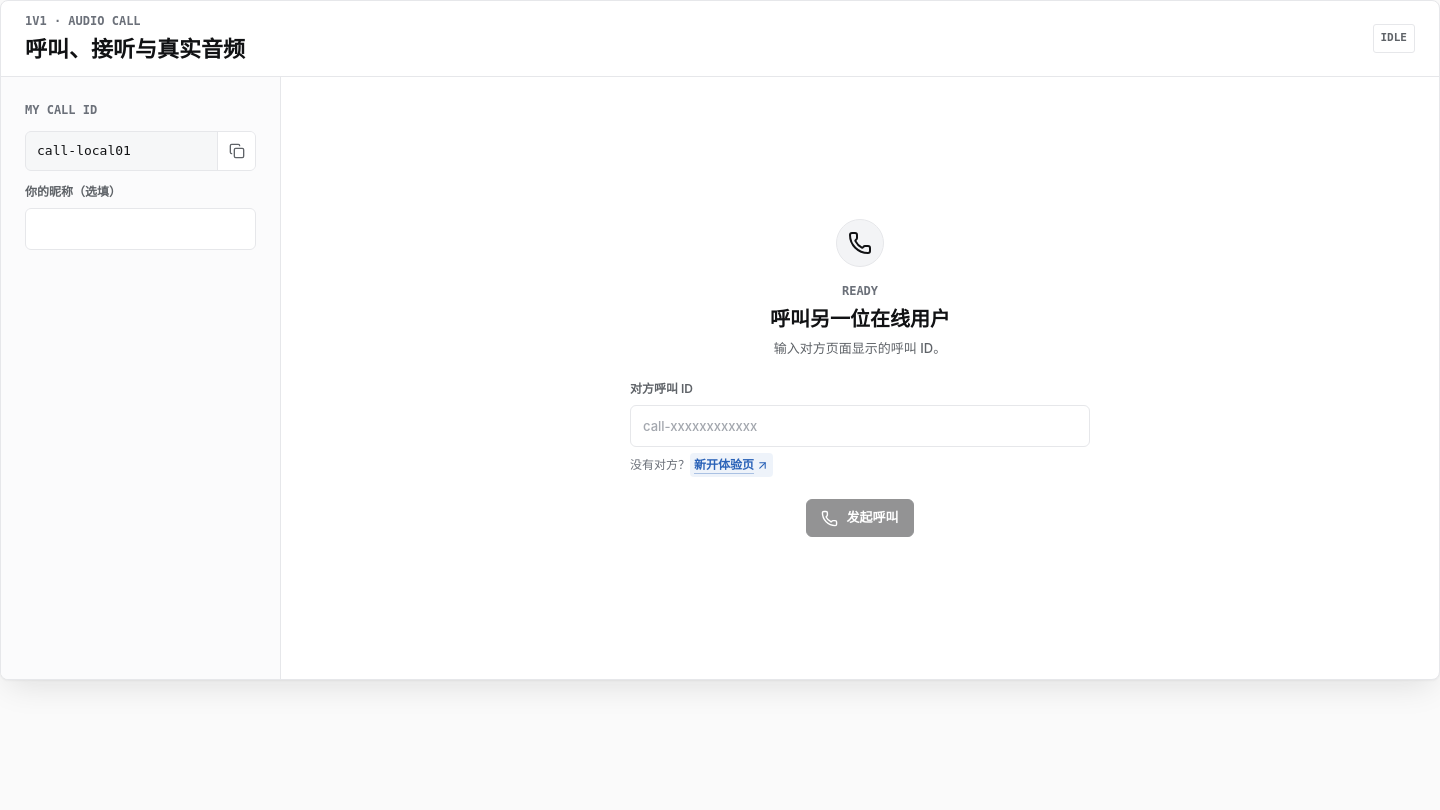
Test case: OneToOneCallScene › 本地 CONNECTED 时 publish 超时重试耗尽后显示发送超时，不冒充对方离线
The image size is (1440, 810).
Type "call-remote02" into the field labelled "对方呼叫 ID" at (860, 426), box [630,405,1090,447]
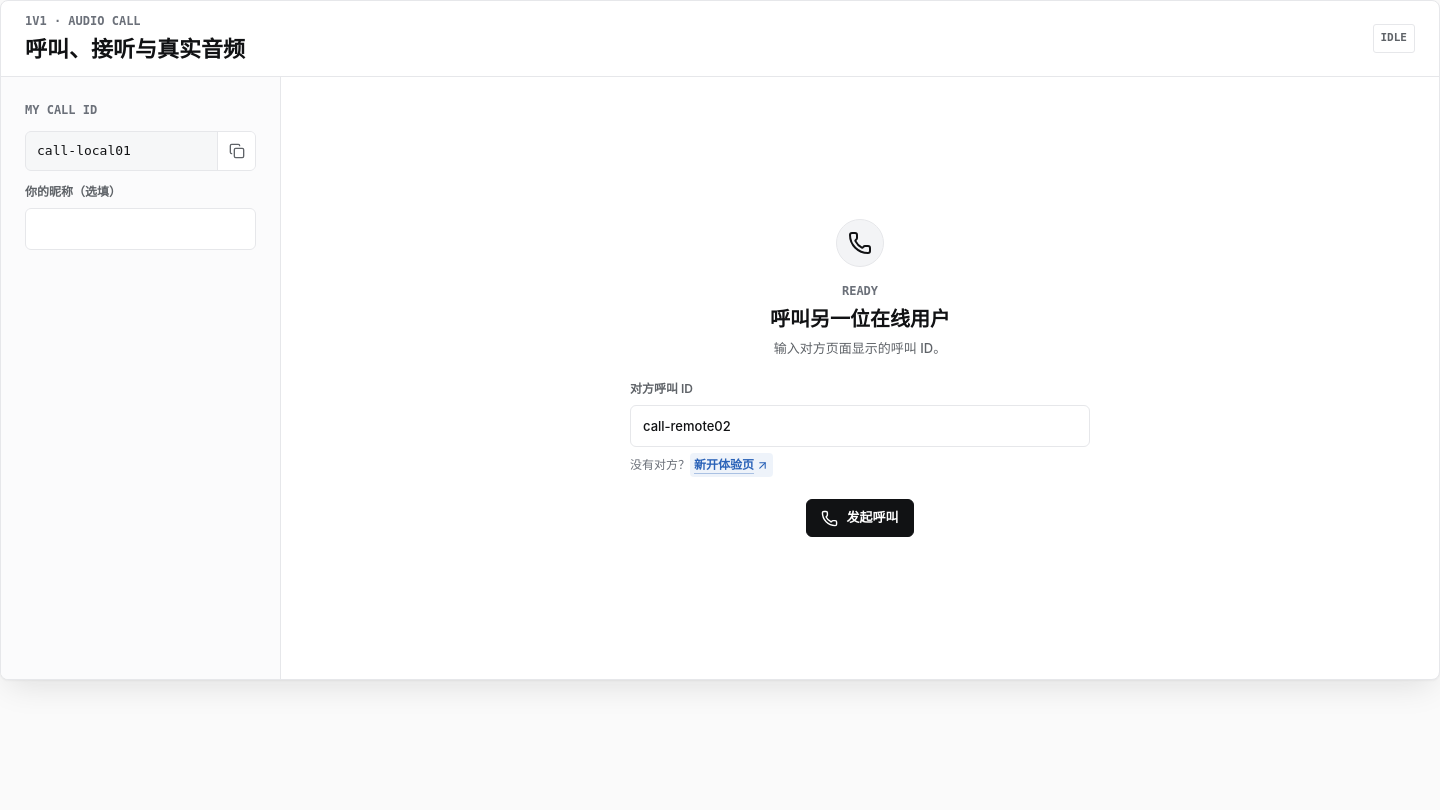
Click the button "发起呼叫" at (860, 518), box [806,499,914,537]
Wait 4000 ms
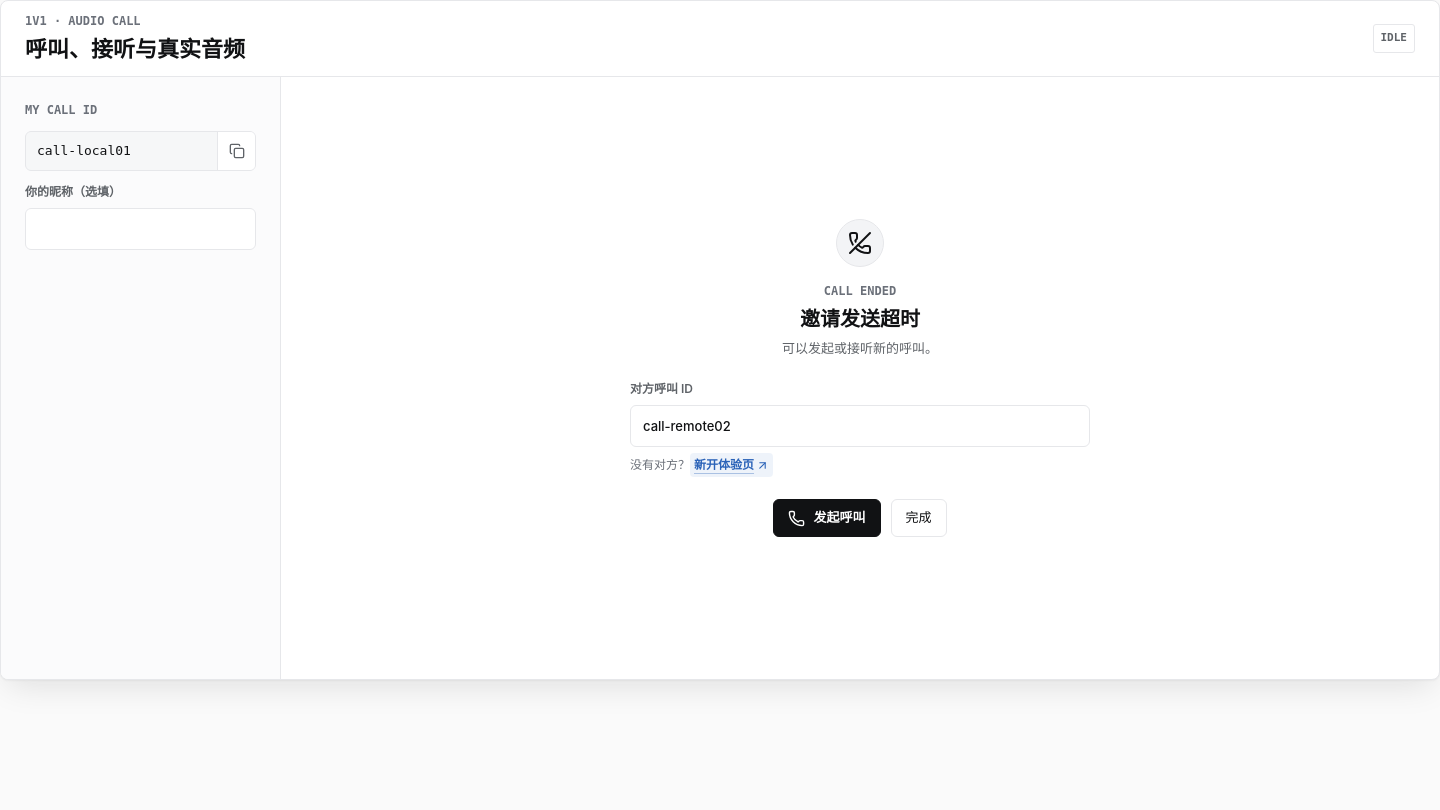
Expected: the heading "邀请发送超时" is shown, [800,306,920,330]
